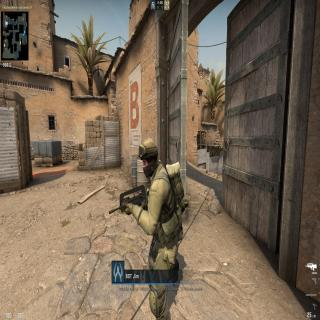CT-Head: (138, 137, 159, 180)
